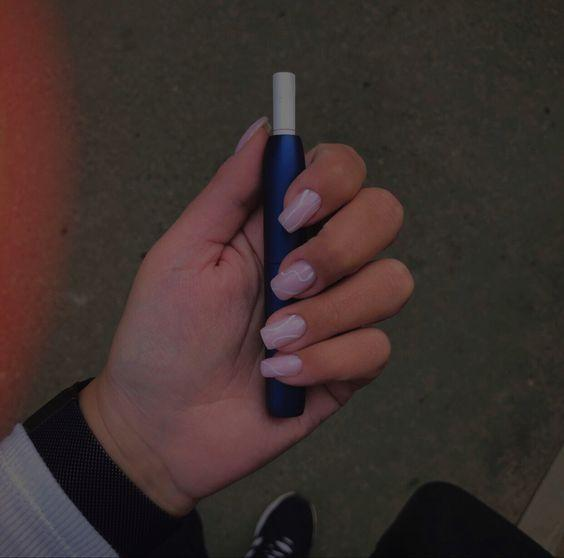iqos: (263, 70, 306, 419)
